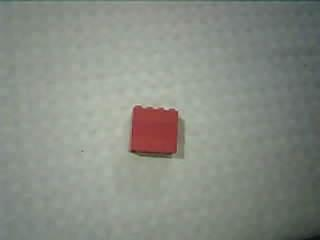lego: (129, 104, 180, 156)
